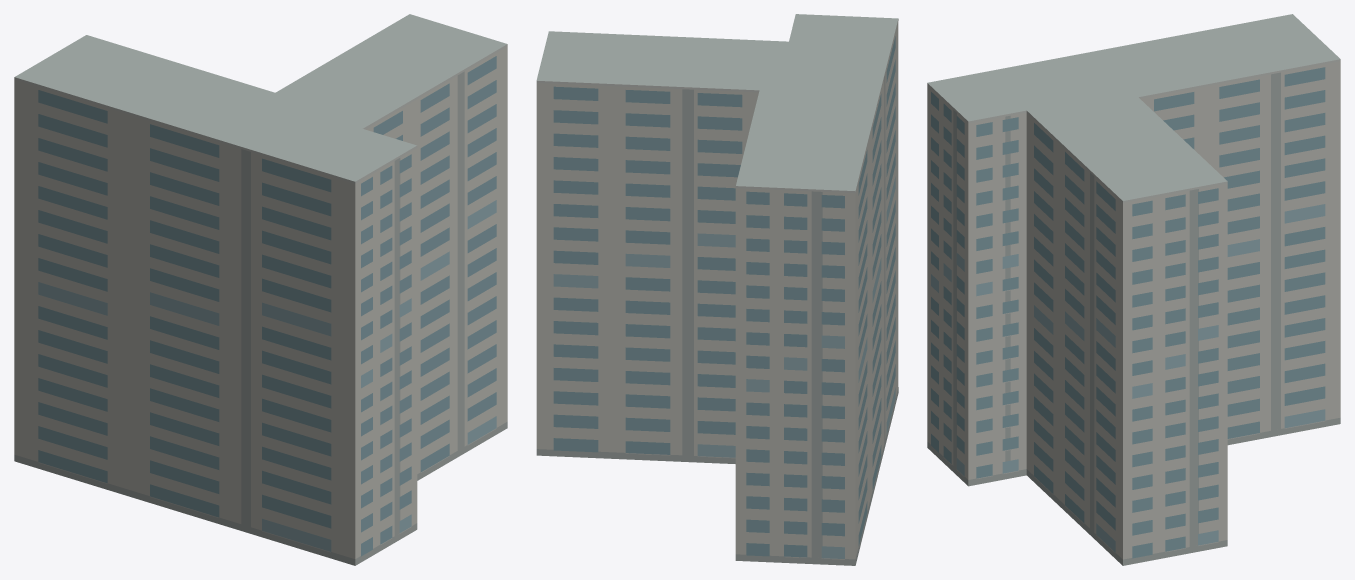
The model's file is residential-cc9c6605-6322-40e5-9bee-df5ebd3fa64d.glb.
The picture shows the model from 3 angles, left to right: view 1: azimuth 30°, elevation 25°; view 2: azimuth 150°, elevation 25°; view 3: azimuth 270°, elevation 25°; orthographic projection. The views are drawn at different scales.
Visible parts, largest first — view 1: residential-cc9c6605-6322-40e5-9bee-df5ebd3fa64d.tmp; view 2: residential-cc9c6605-6322-40e5-9bee-df5ebd3fa64d.tmp; view 3: residential-cc9c6605-6322-40e5-9bee-df5ebd3fa64d.tmp.
Boxes of the visible parts, x1,y1,x2,y2 form: residential-cc9c6605-6322-40e5-9bee-df5ebd3fa64d.tmp: (14,14,507,565); residential-cc9c6605-6322-40e5-9bee-df5ebd3fa64d.tmp: (536,14,898,565); residential-cc9c6605-6322-40e5-9bee-df5ebd3fa64d.tmp: (927,14,1340,565).
Bounding box in the file's own units: 47.3 × 43 × 44.18.
